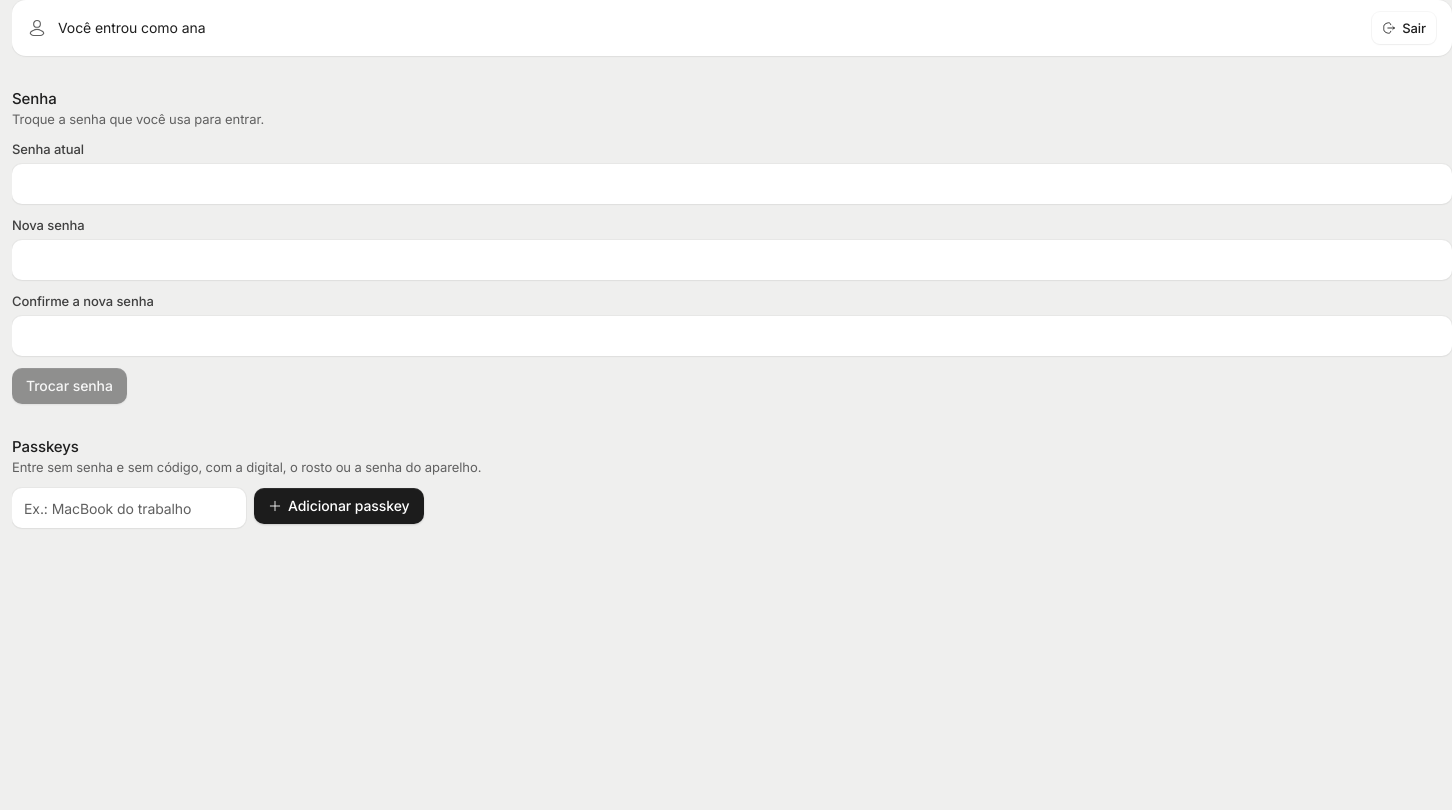
Test: senha › a conta confere a nova senha antes de trocar
Type "velha1234" into the password field labelled "Senha atual".
click(732, 184); type("velha1234")  # box top-left (24, 164), bottom-right (1440, 204)
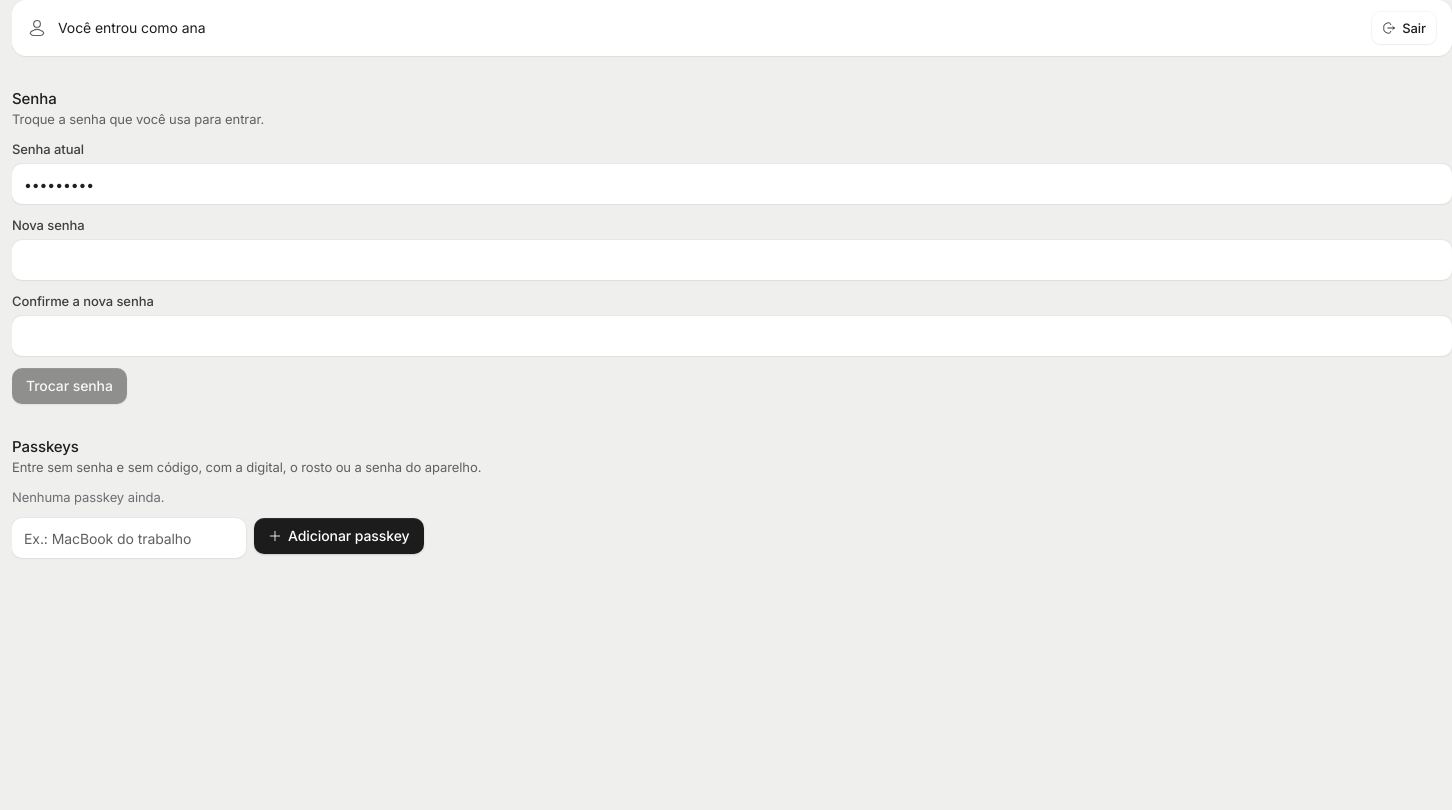
Type "curta" into the password field labelled "Nova senha".
click(732, 260); type("curta")  # box top-left (24, 240), bottom-right (1440, 280)
Type "curta" into the password field labelled "Confirme a nova senha".
click(732, 336); type("curta")  # box top-left (24, 316), bottom-right (1440, 356)
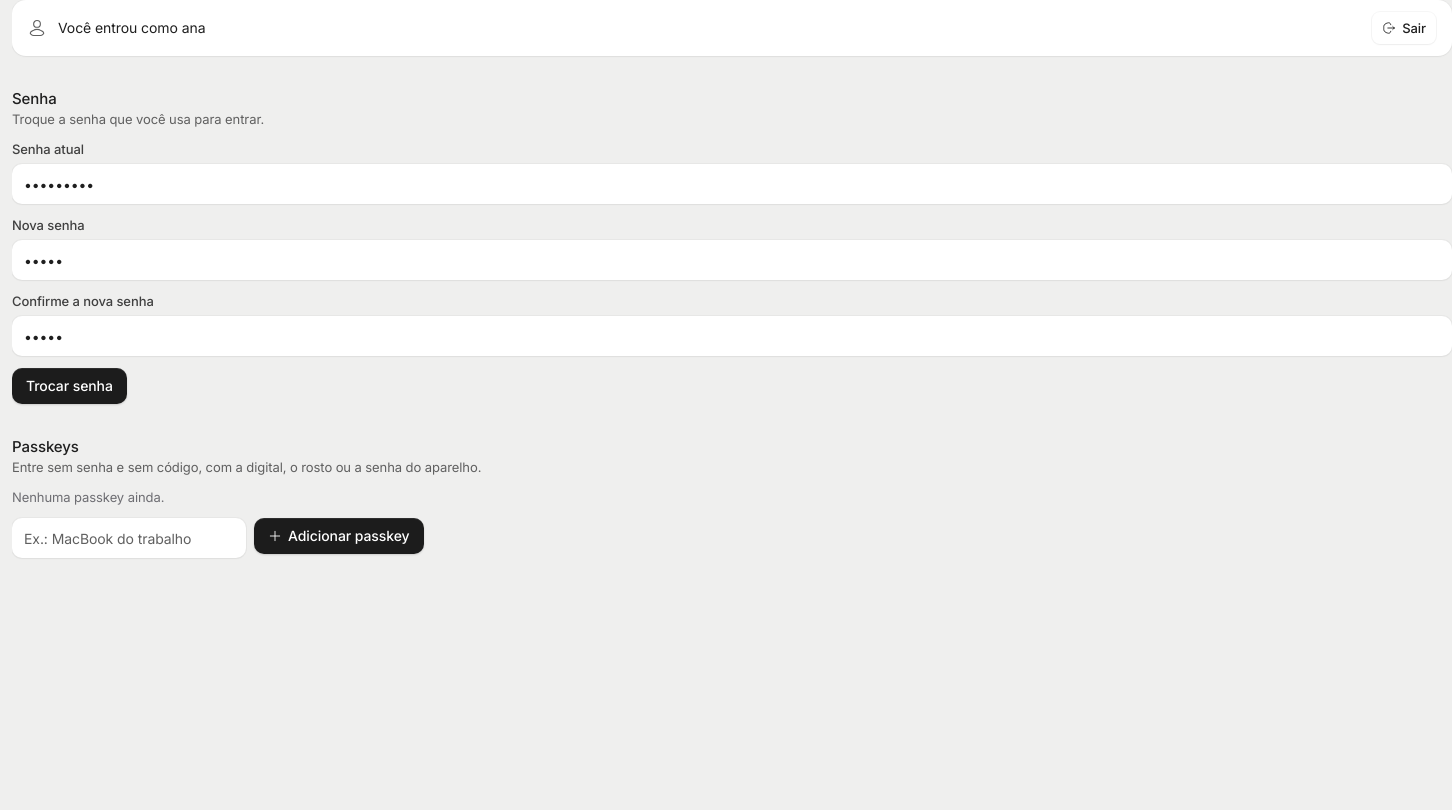
Click the button "Trocar senha".
click(69, 386)  # box top-left (12, 368), bottom-right (127, 404)
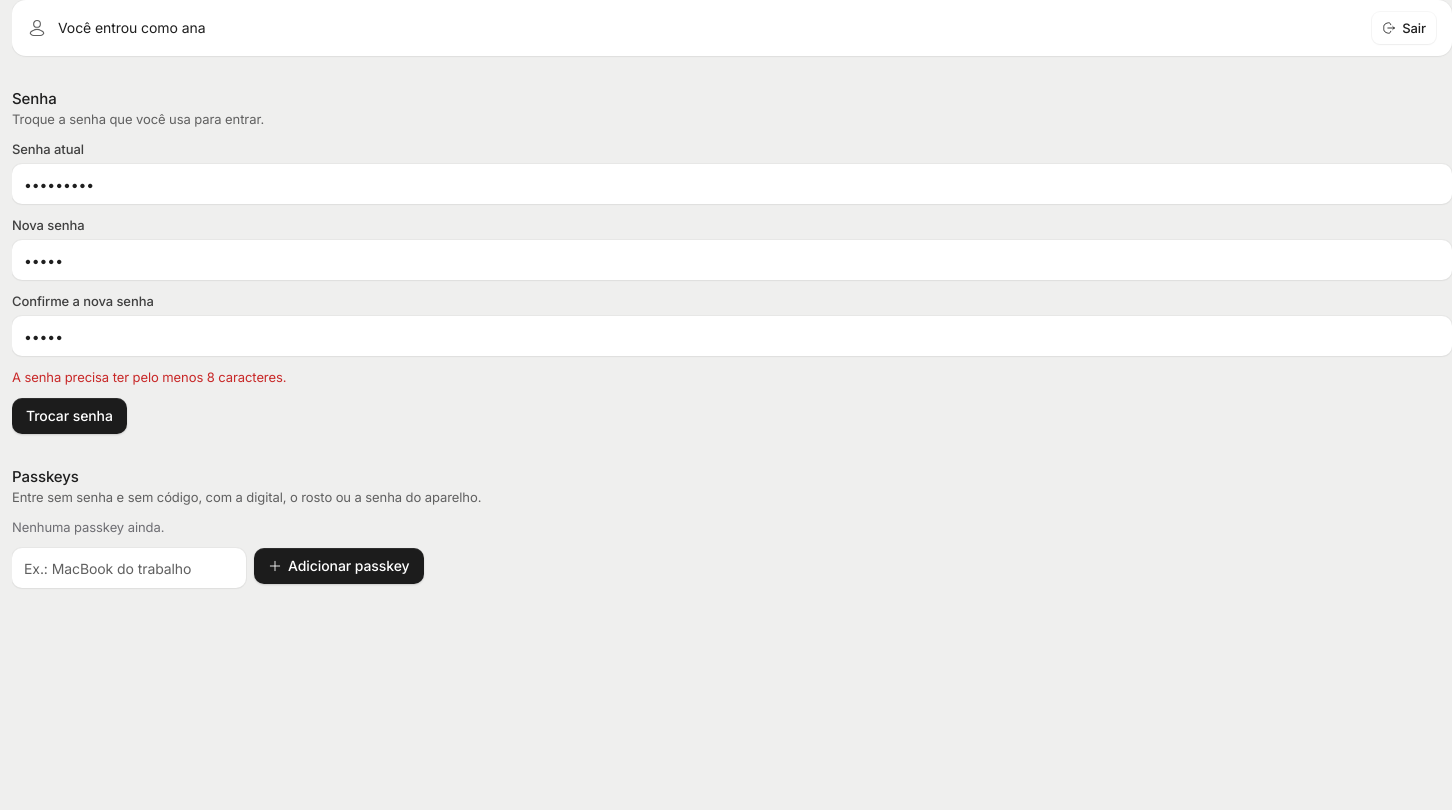
Now the text "A senha precisa ter pelo menos 8 caracteres." is shown, box top-left (12, 369), bottom-right (286, 385)
Type "nova12345" into the password field labelled "Nova senha".
click(732, 260); type("nova12345")  # box top-left (24, 240), bottom-right (1440, 280)
Click the button "Trocar senha".
click(69, 416)  # box top-left (12, 398), bottom-right (127, 434)
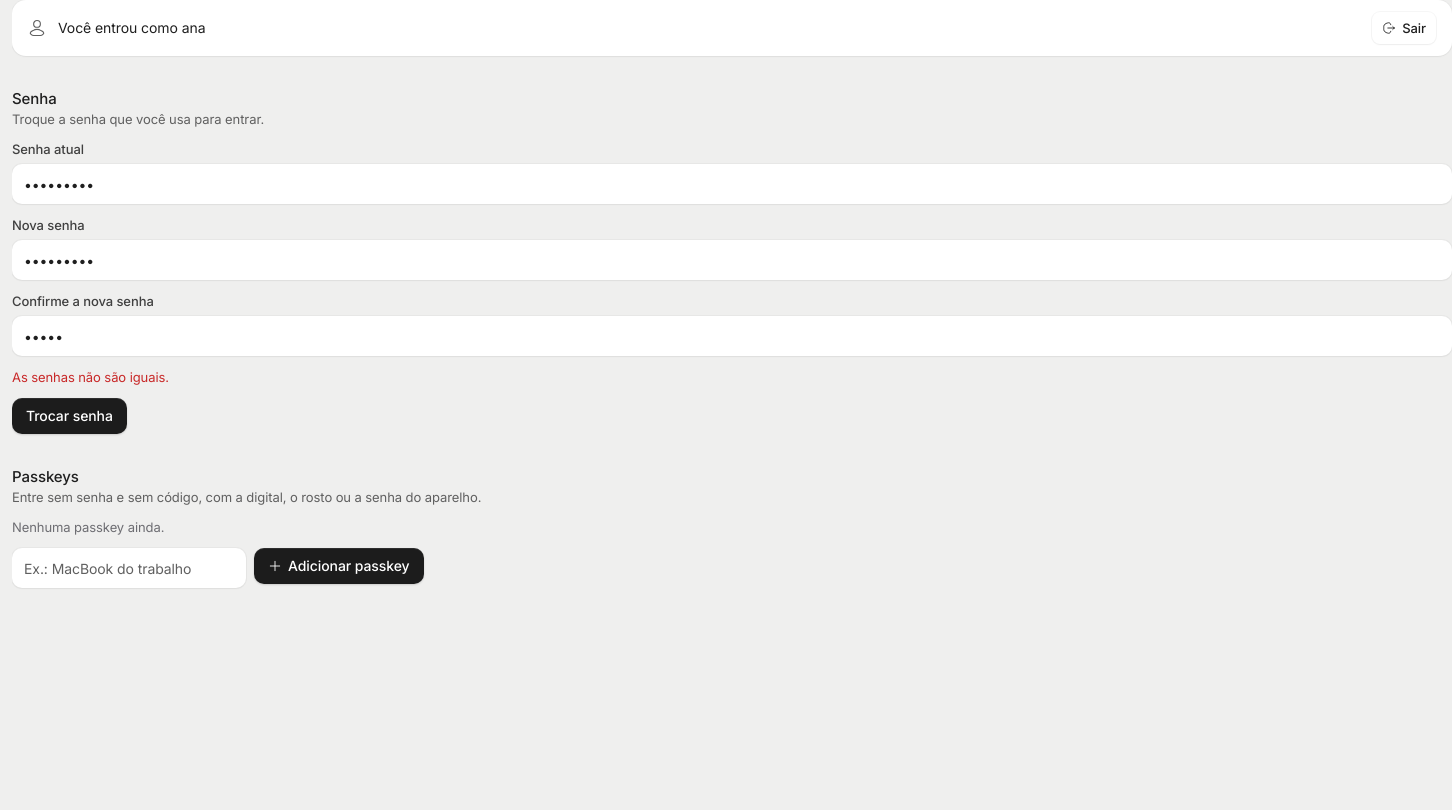
Now the text "As senhas não são iguais." is shown, box top-left (12, 369), bottom-right (169, 385)
Type "nova12345" into the password field labelled "Confirme a nova senha".
click(732, 336); type("nova12345")  # box top-left (24, 316), bottom-right (1440, 356)
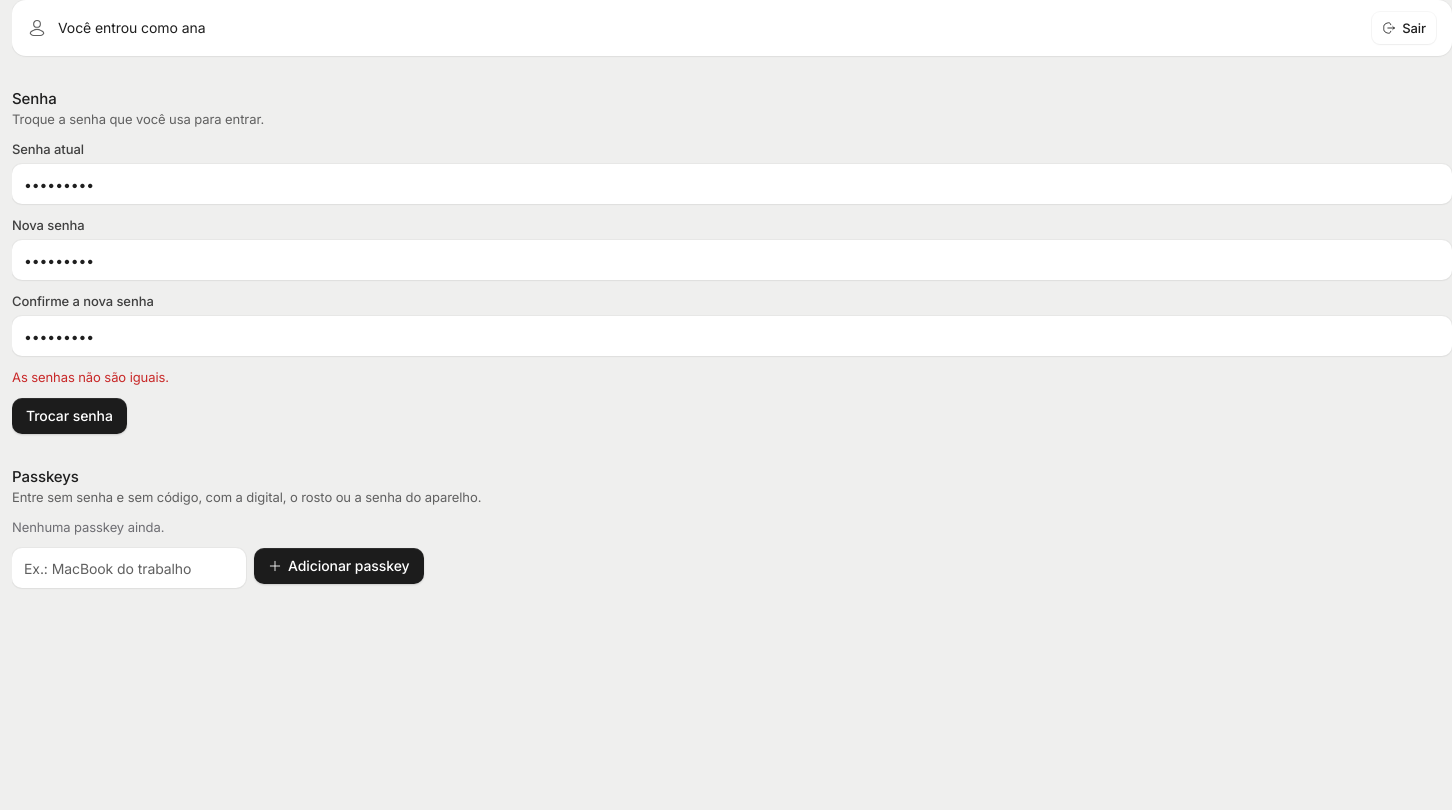
Click the button "Trocar senha".
click(69, 416)  # box top-left (12, 398), bottom-right (127, 434)
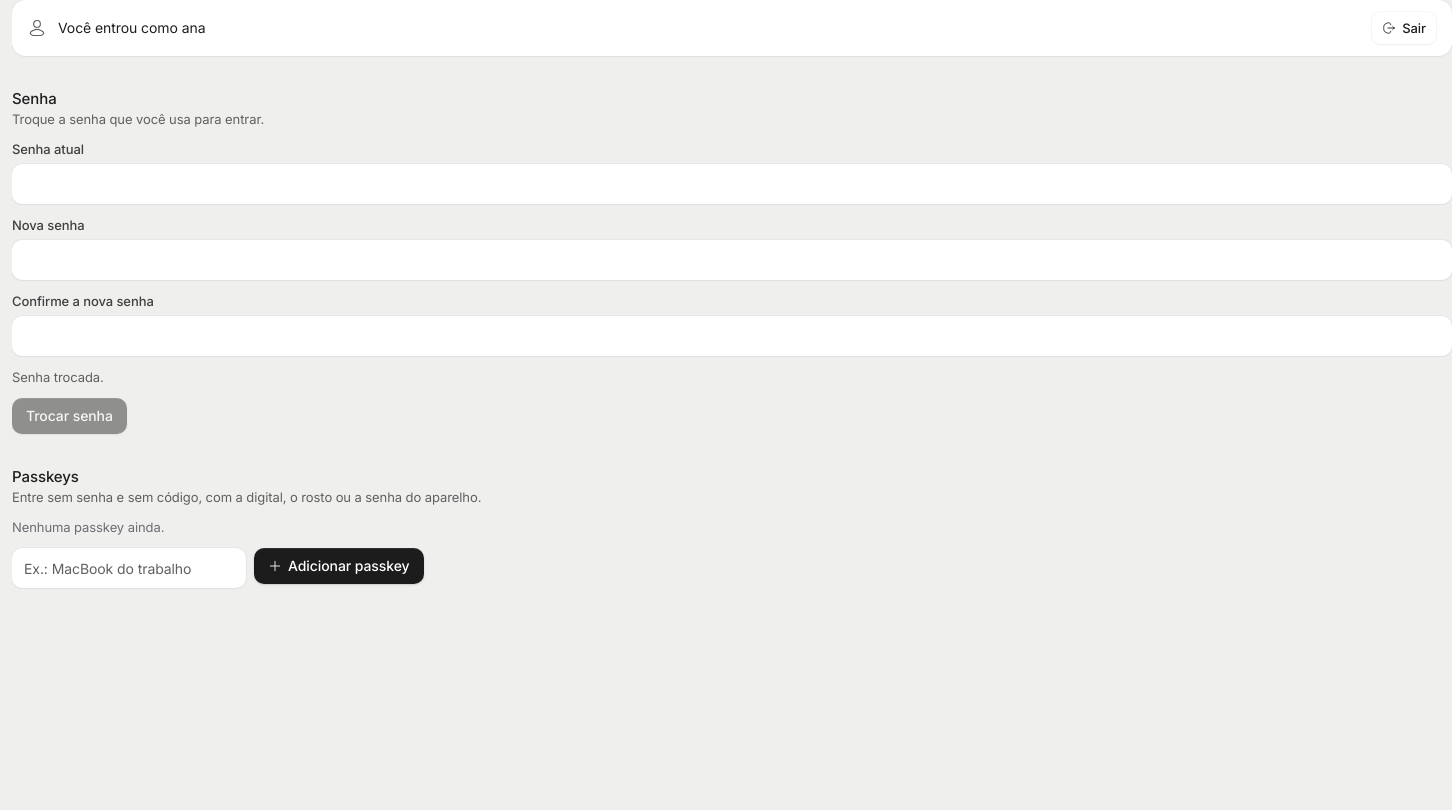
Now the text "Senha trocada." is shown, box top-left (12, 369), bottom-right (104, 385)
